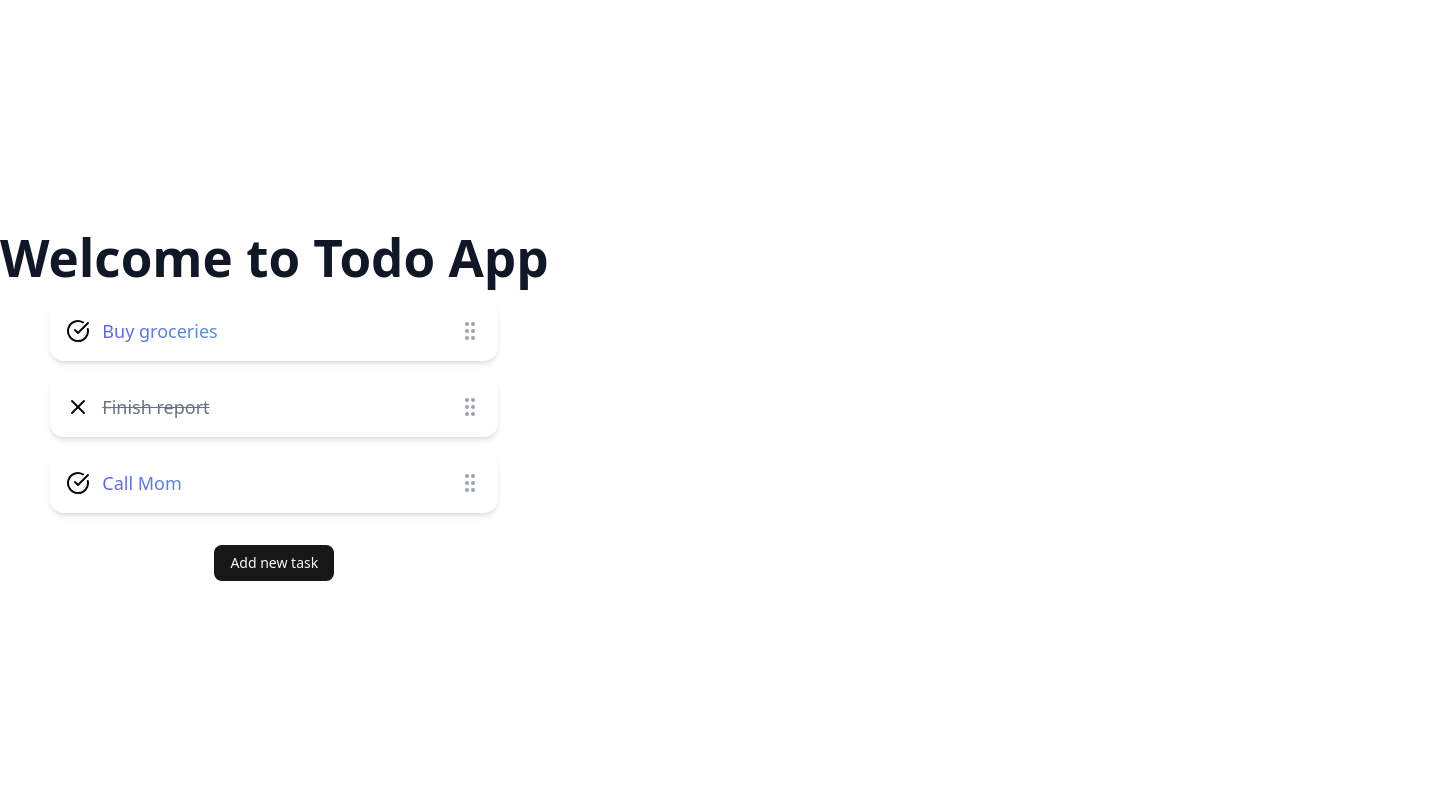
adds a new task via modal
This screenshot has width=1440, height=810.
Click the button "Add new task".
click(274, 563)  # box top-left (214, 545), bottom-right (334, 581)
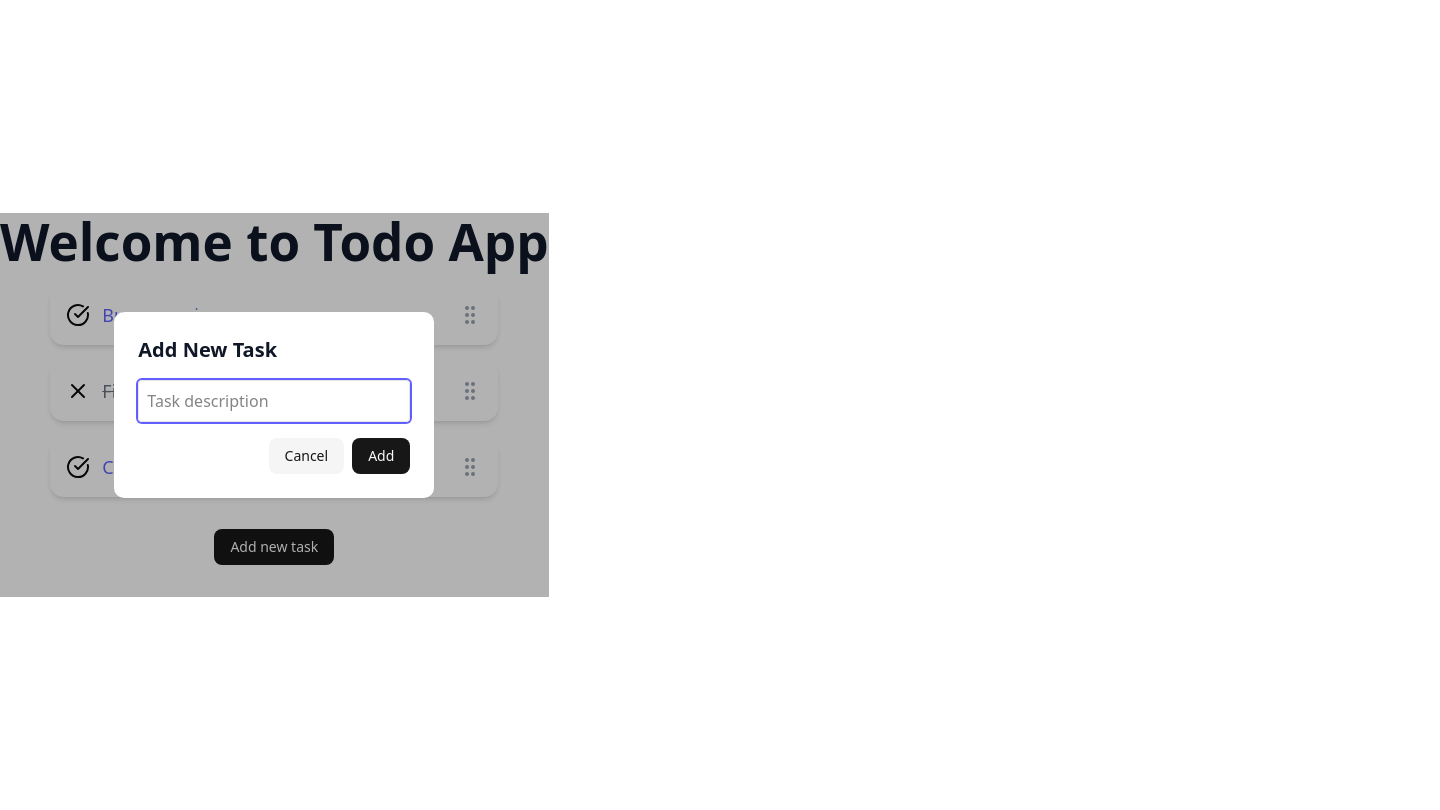
Type "Test task" into the field with placeholder "Task description".
click(274, 401); type("Test task")  # box top-left (138, 380), bottom-right (410, 422)
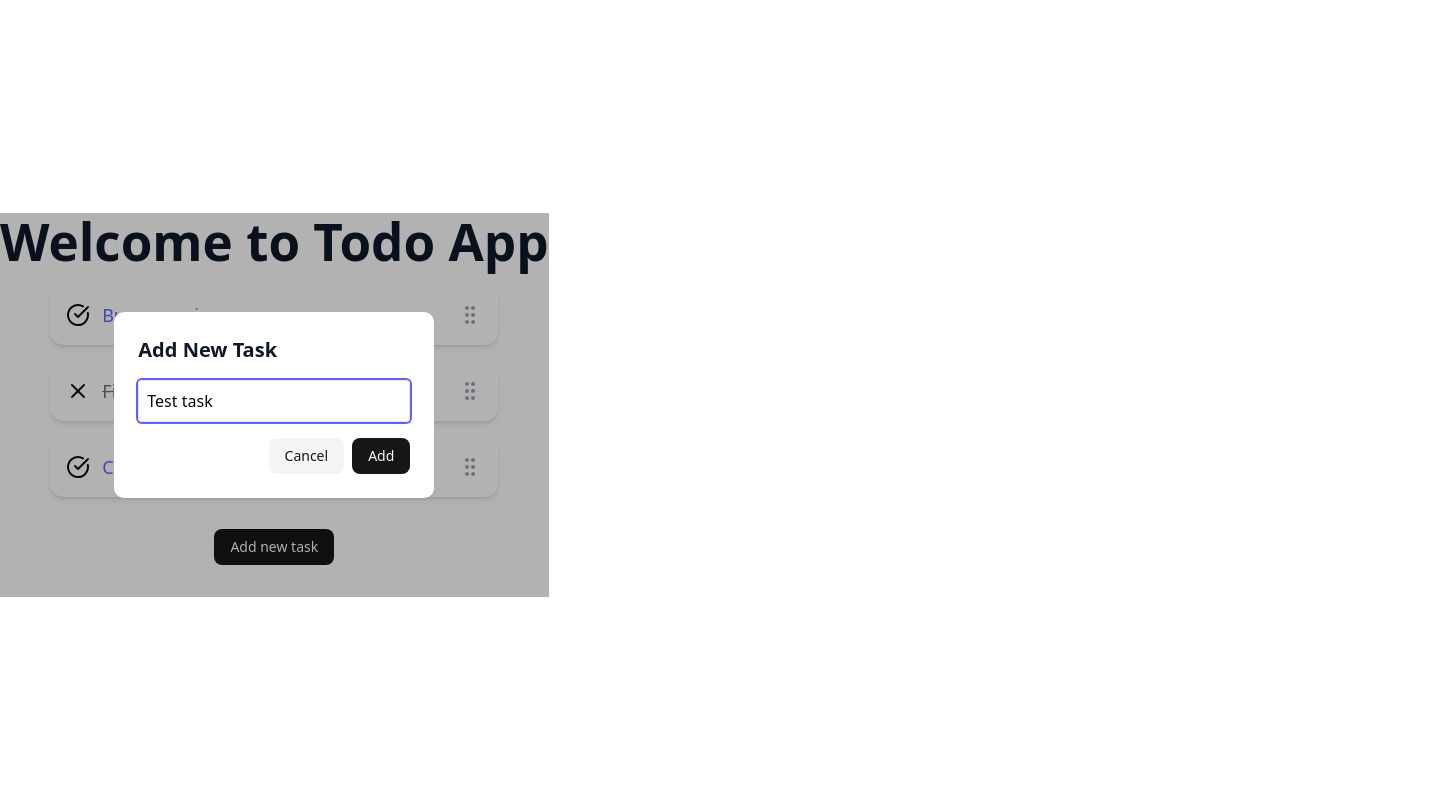
Click the button "Add".
click(381, 456)  # box top-left (352, 438), bottom-right (410, 474)
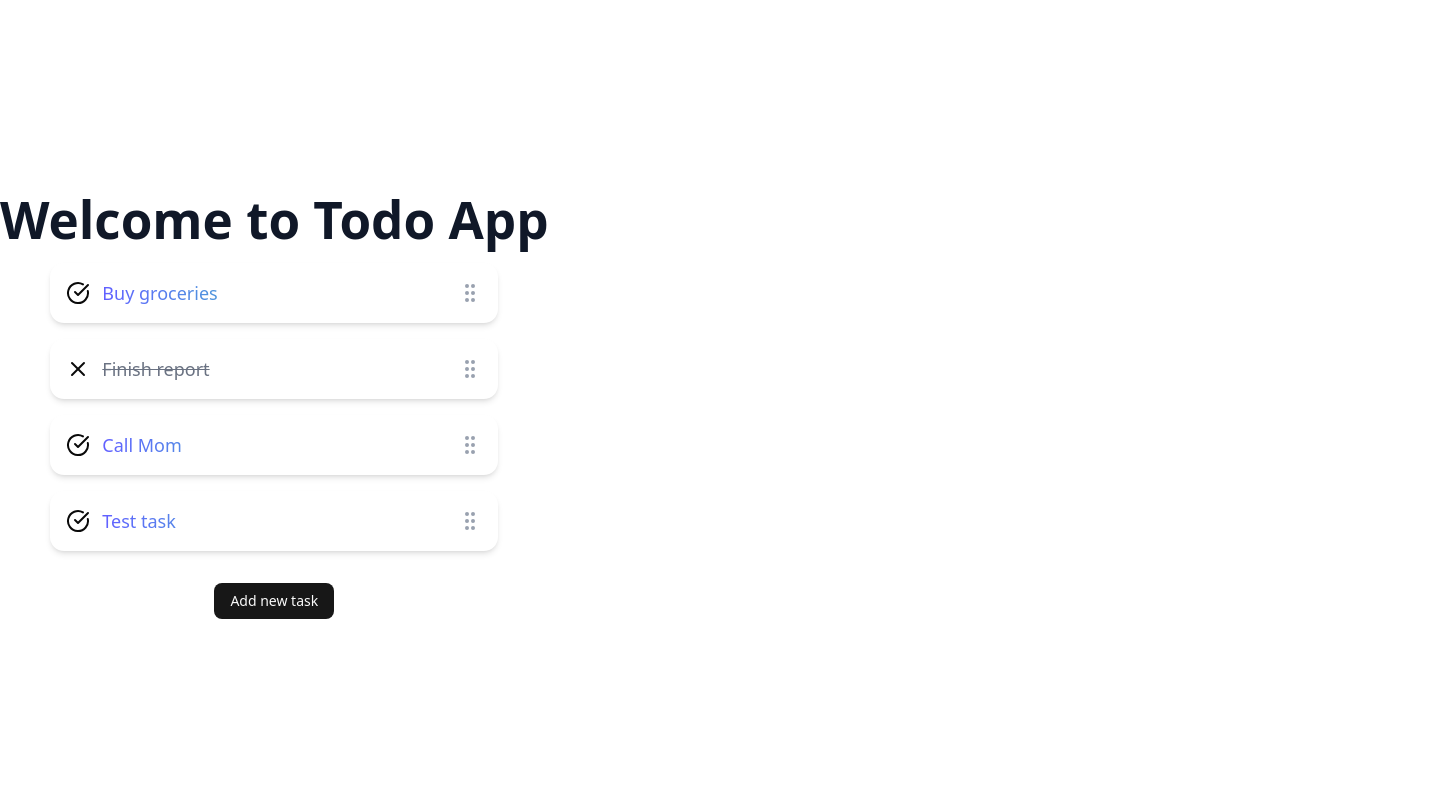
Now the text "Test task" is shown, box top-left (102, 507), bottom-right (446, 535)
